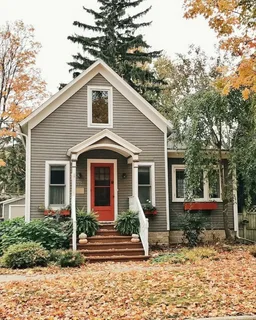private_hause: (16, 58, 248, 258)
